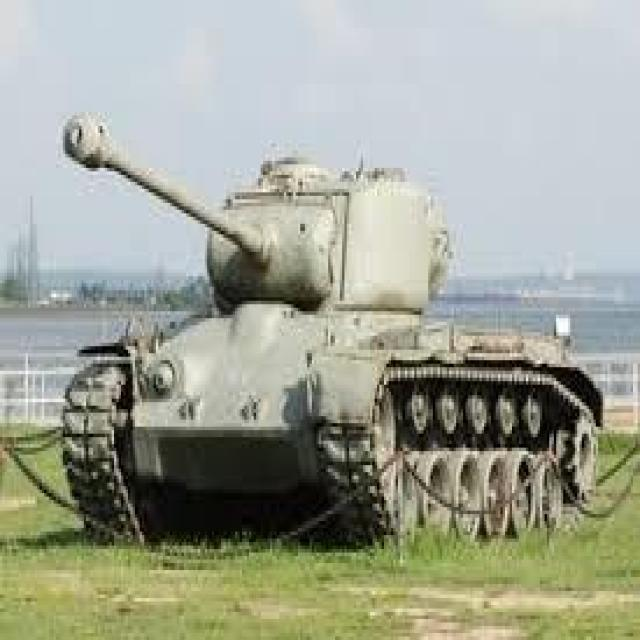Tanks: (43, 30, 574, 603)
